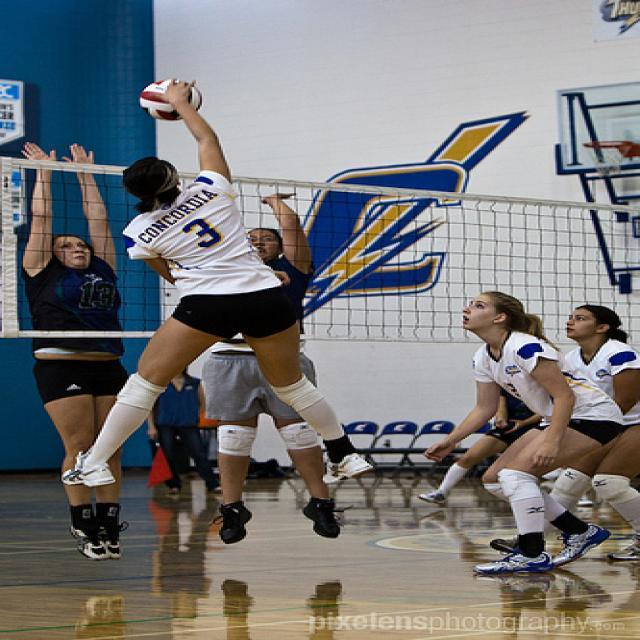volleyball: (139, 79, 183, 120)
